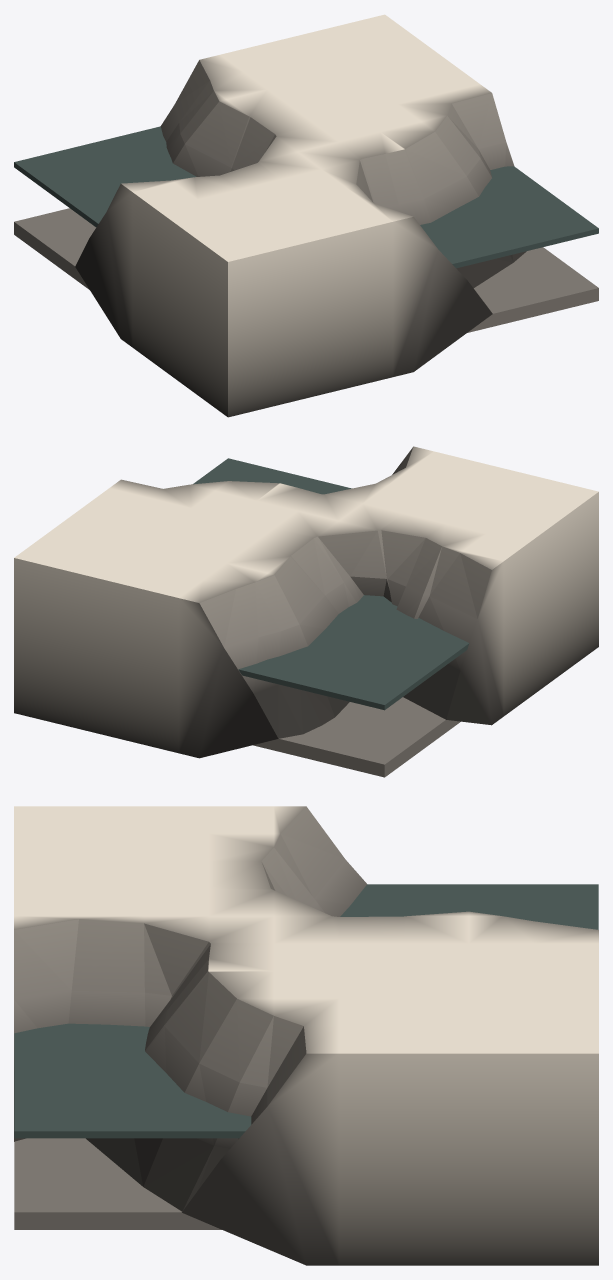
File: SM_VKI_Ground_Stream_OXOX_Q01.fbx
3 views of the same model, one above another, from view 1: azimuth 30°, elevation 25°; view 2: azimuth 150°, elevation 25°; view 3: azimuth 270°, elevation 25° (orthographic). The views are drawn at different scales.
Parts seen in each view (by area): view 1: SM_VKI_Ground_Stream_OXOX_Q01.001; view 2: SM_VKI_Ground_Stream_OXOX_Q01.001; view 3: SM_VKI_Ground_Stream_OXOX_Q01.001.
Part boxes in pixels (x1,y1,x2,y2): SM_VKI_Ground_Stream_OXOX_Q01.001: (14,14,598,417); SM_VKI_Ground_Stream_OXOX_Q01.001: (14,446,598,777); SM_VKI_Ground_Stream_OXOX_Q01.001: (14,806,598,1265).
Bounding box in the file's own units: 1.5 × 0.6 × 1.5.
